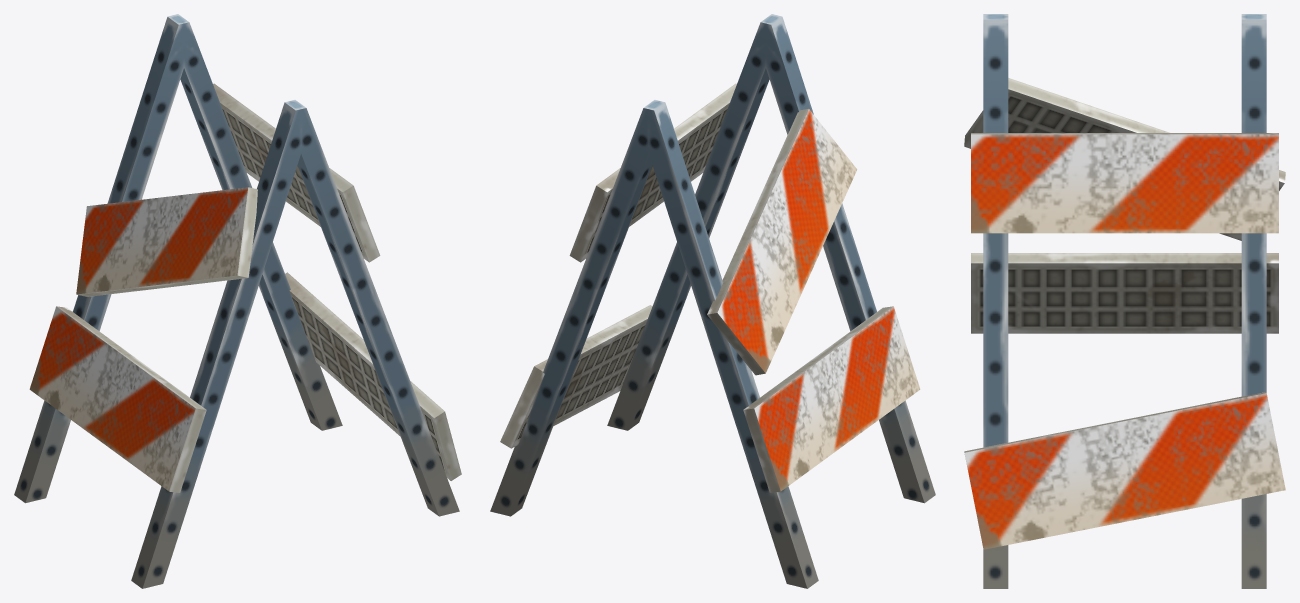
The model's file is trafficBarricade01_B.fbx.
The picture shows the model from 3 angles, left to right: view 1: azimuth 30°, elevation 25°; view 2: azimuth 150°, elevation 25°; view 3: azimuth 270°, elevation 25°; orthographic projection. The views are drawn at different scales.
Parts seen in each view (by area): view 1: trafficBarricade01_B; view 2: trafficBarricade01_B; view 3: trafficBarricade01_B.
Part boxes in pixels (x1=…): trafficBarricade01_B: x1=14, y1=14, x2=461, y2=588; trafficBarricade01_B: x1=490, y1=14, x2=935, y2=588; trafficBarricade01_B: x1=964, y1=14, x2=1285, y2=588.
Size of the model in its own units: 81.95 by 108 by 64.74.
